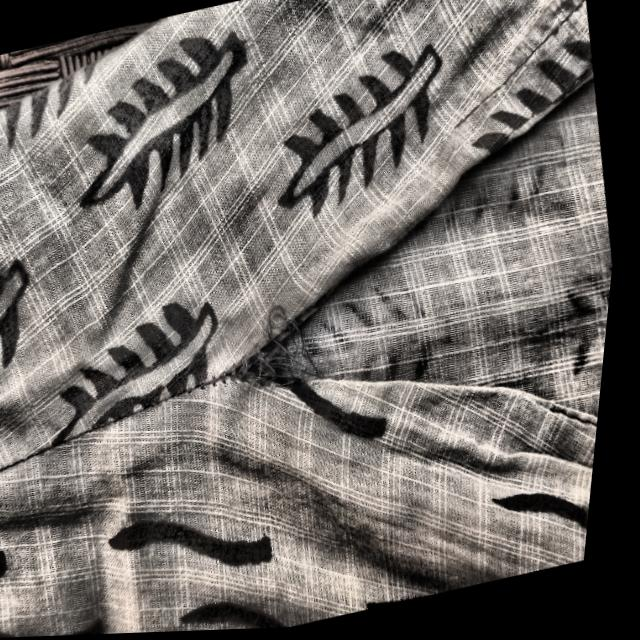Stitch: (163, 292, 363, 483)
